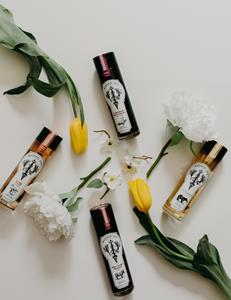glass_bottle: (159, 132, 229, 229), (1, 123, 66, 213), (87, 201, 138, 299), (91, 49, 142, 142)
